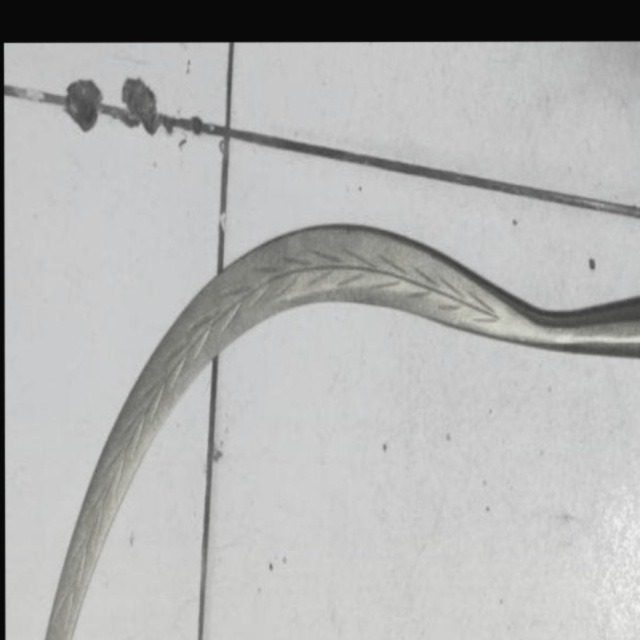Sharp-Object: (30, 219, 640, 640)
